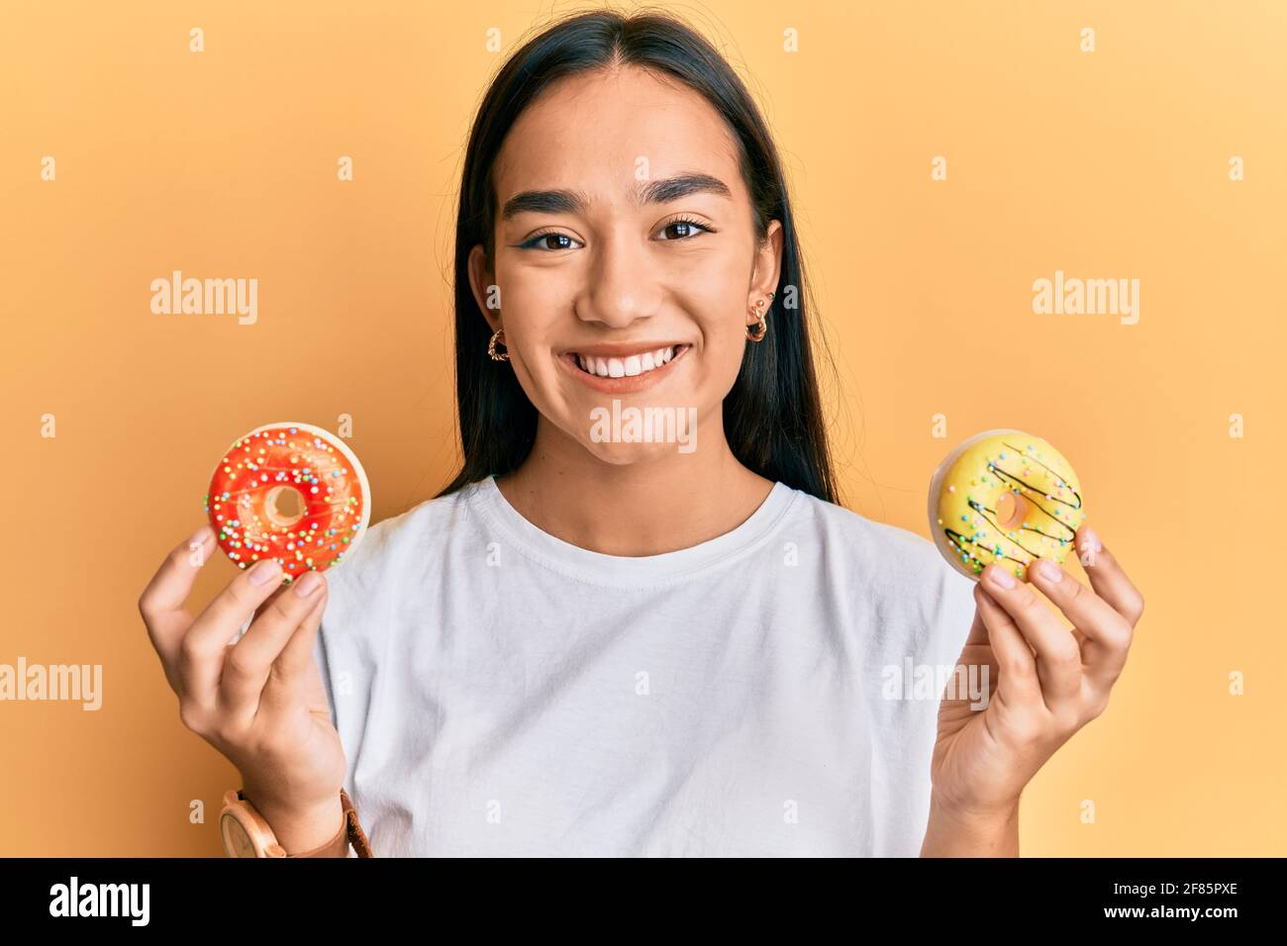Donut: (915, 410, 1105, 611), (200, 407, 372, 598)
